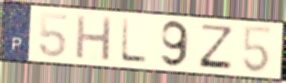5: (241, 25, 274, 76), (38, 11, 69, 58)
9: (159, 19, 192, 68)
H: (74, 13, 115, 63)
L: (119, 16, 150, 66)
Z: (196, 22, 235, 71)
